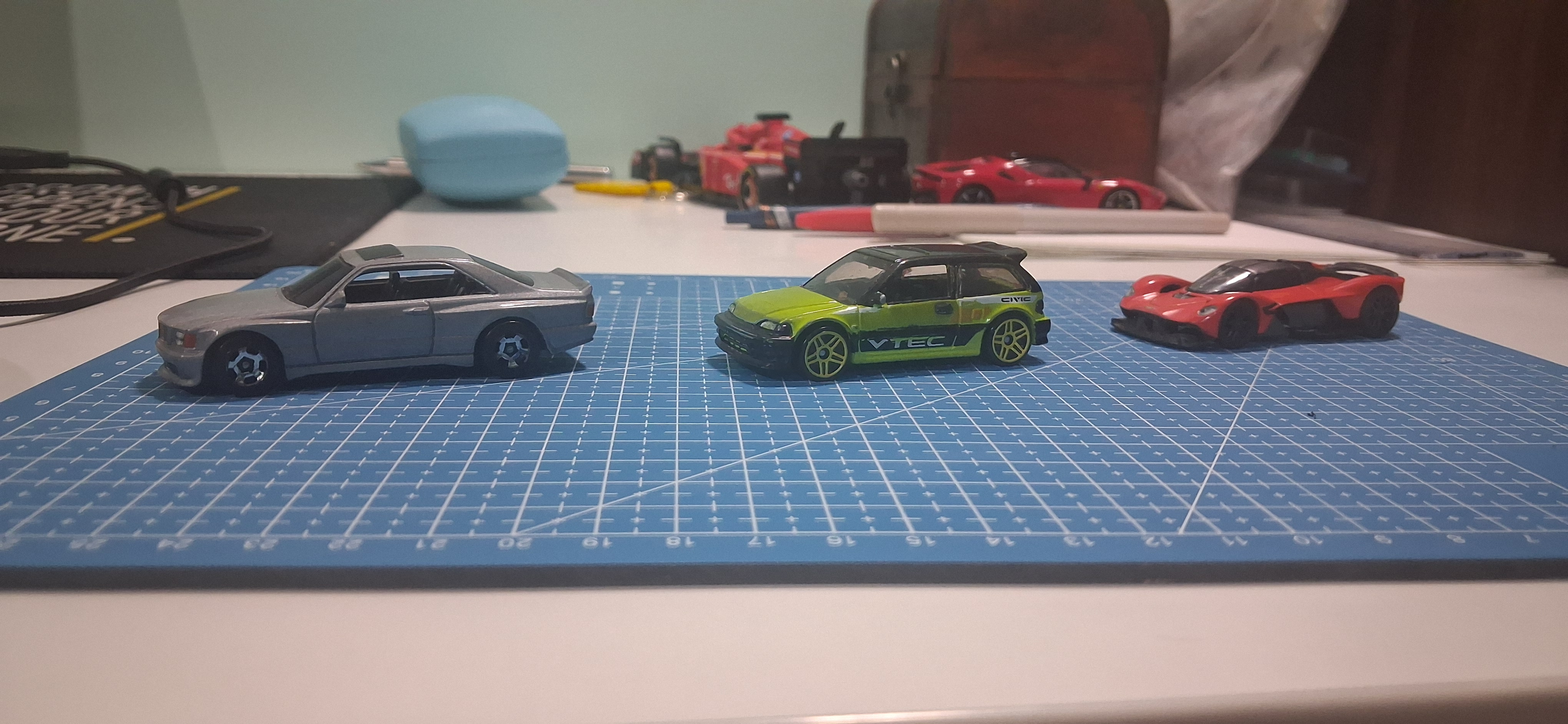Aston_Martin_Valkyrie: (1089, 217, 1433, 399)
Honda_Civic: (696, 229, 1053, 411)
Mercedes_Benz_560_SEC_AMG: (123, 229, 613, 412)
